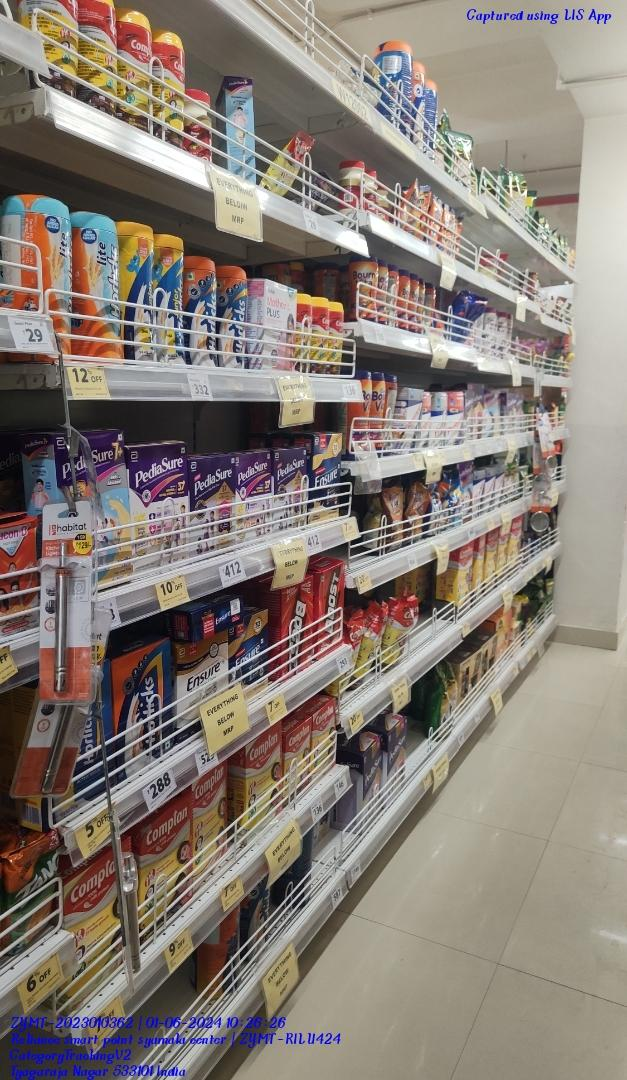COMPLAN_CHOCOLATE_200_GMS_PACK: (283, 716, 312, 805)
COMPLAN_CHOCOLATE_500_GMS_JAR: (152, 27, 185, 148), (119, 6, 148, 129)
COMPLAN_CHOCOLATE_500_GMS_PACK: (136, 795, 192, 936)
COMPLAN_KESAR_BADAM_500_GMS_PACK: (194, 766, 228, 889)
COMPLAN_PISTA_BADAM_500_GMS_PACK: (61, 847, 130, 1015), (244, 730, 281, 831)
HORLICK_CLASSIC_MALT_500_G_JAR: (183, 253, 216, 366), (218, 261, 247, 367)
